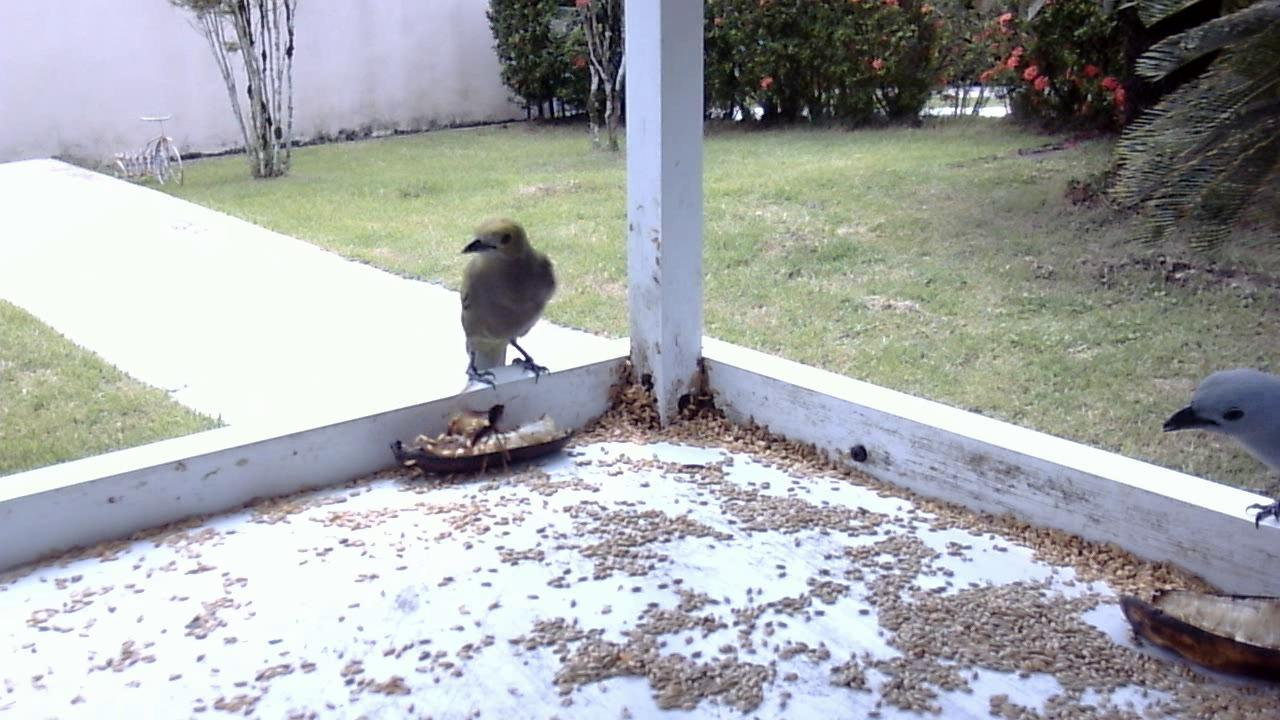sanhaco_da_amazonia: (1157, 359, 1280, 537)
sanhaco_do_coqueiro: (449, 217, 562, 395)
